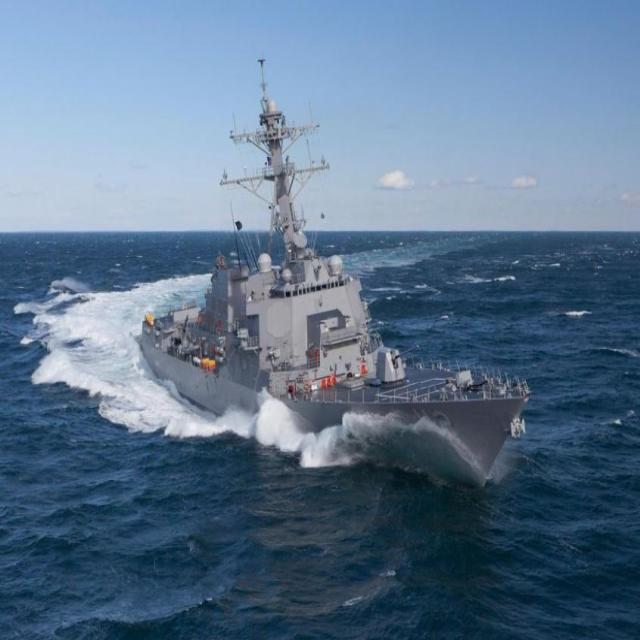navalvessels: (141, 44, 529, 500)
